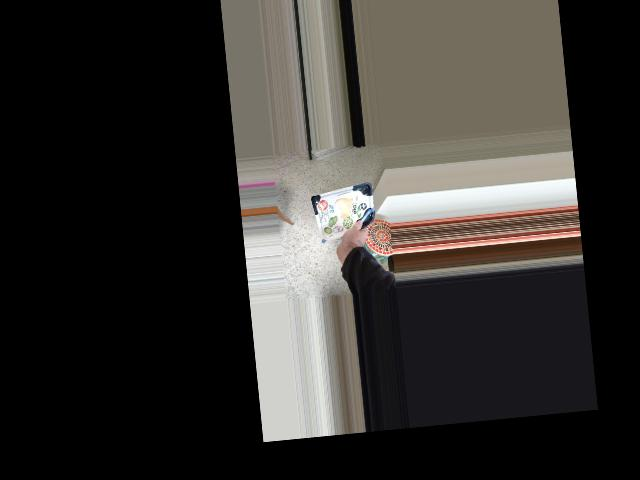cheese: (313, 199, 367, 252)
